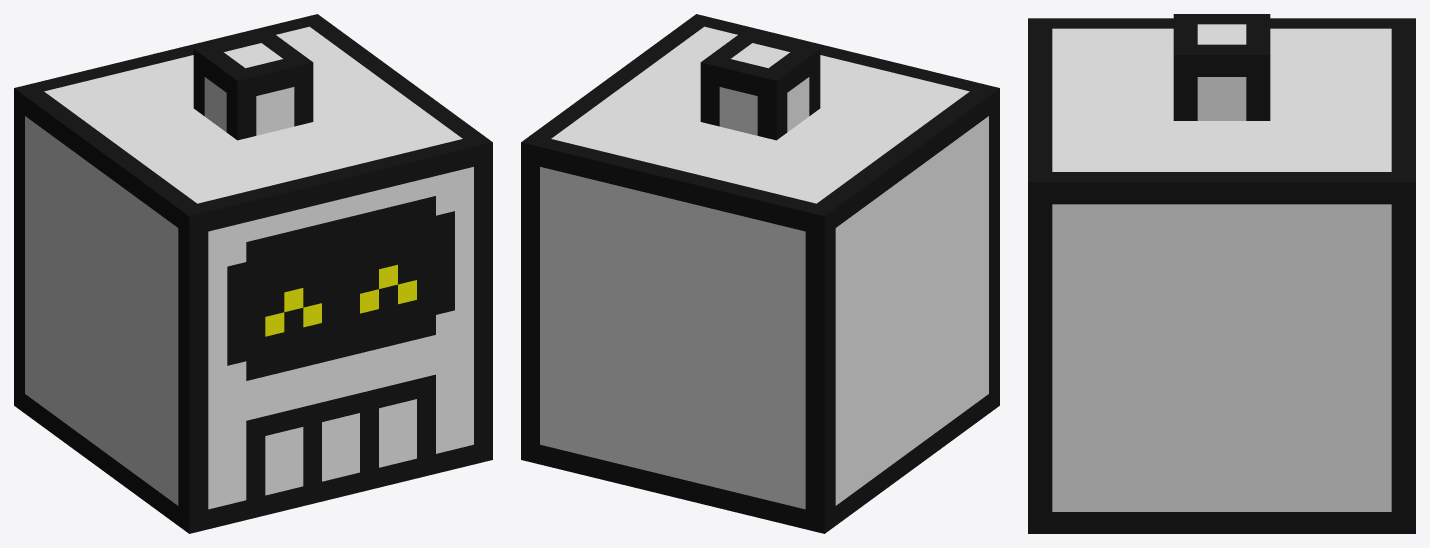
Rendered from tetejaune.obj.
3 views of the same model, side by side, from view 1: azimuth 30°, elevation 25°; view 2: azimuth 150°, elevation 25°; view 3: azimuth 270°, elevation 25° (orthographic). The views are drawn at different scales.
Size of the model in its own units: 1.6 by 1.9 by 1.6.
1 material, 1 textured.
